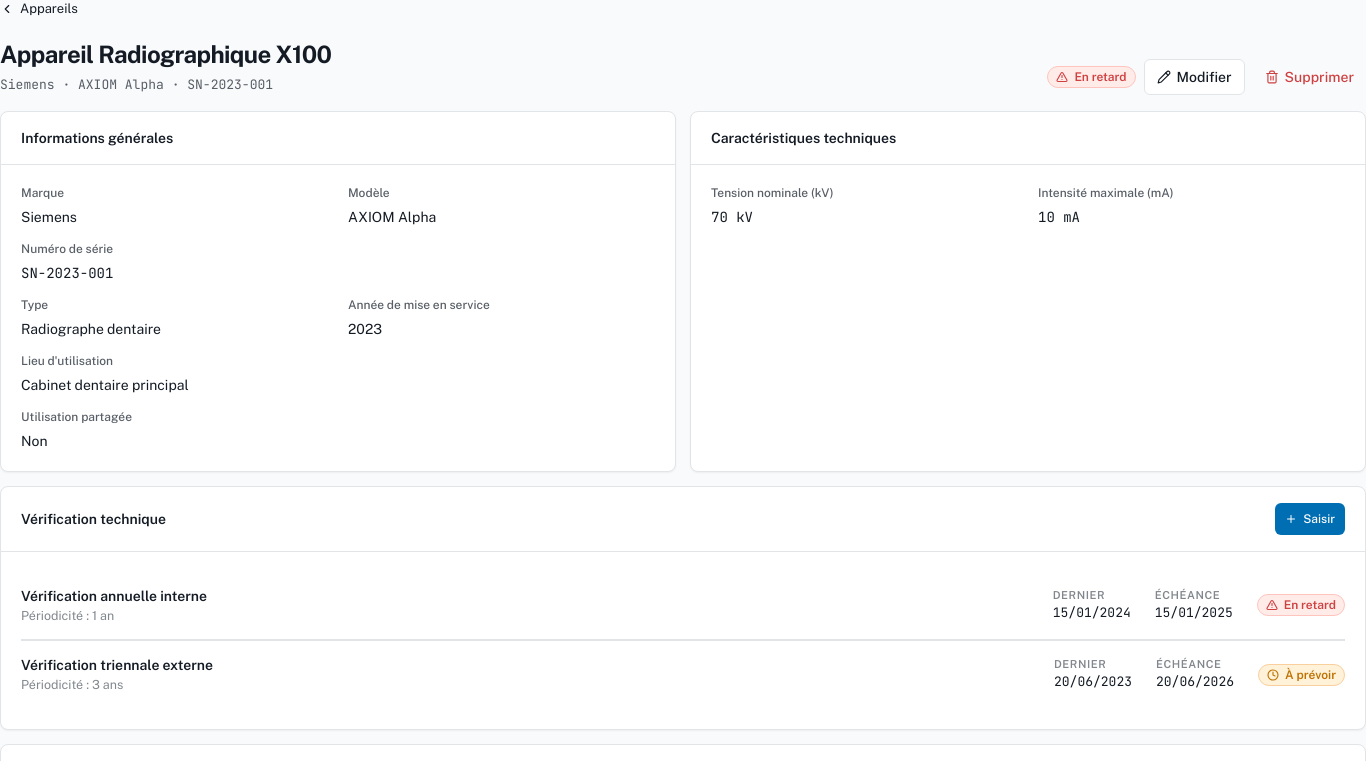
Scenario: AppareilFiche › should allow clicking Saisir button for verification
Click the button "Saisir" at [1310, 519], box [1275,503,1345,535]
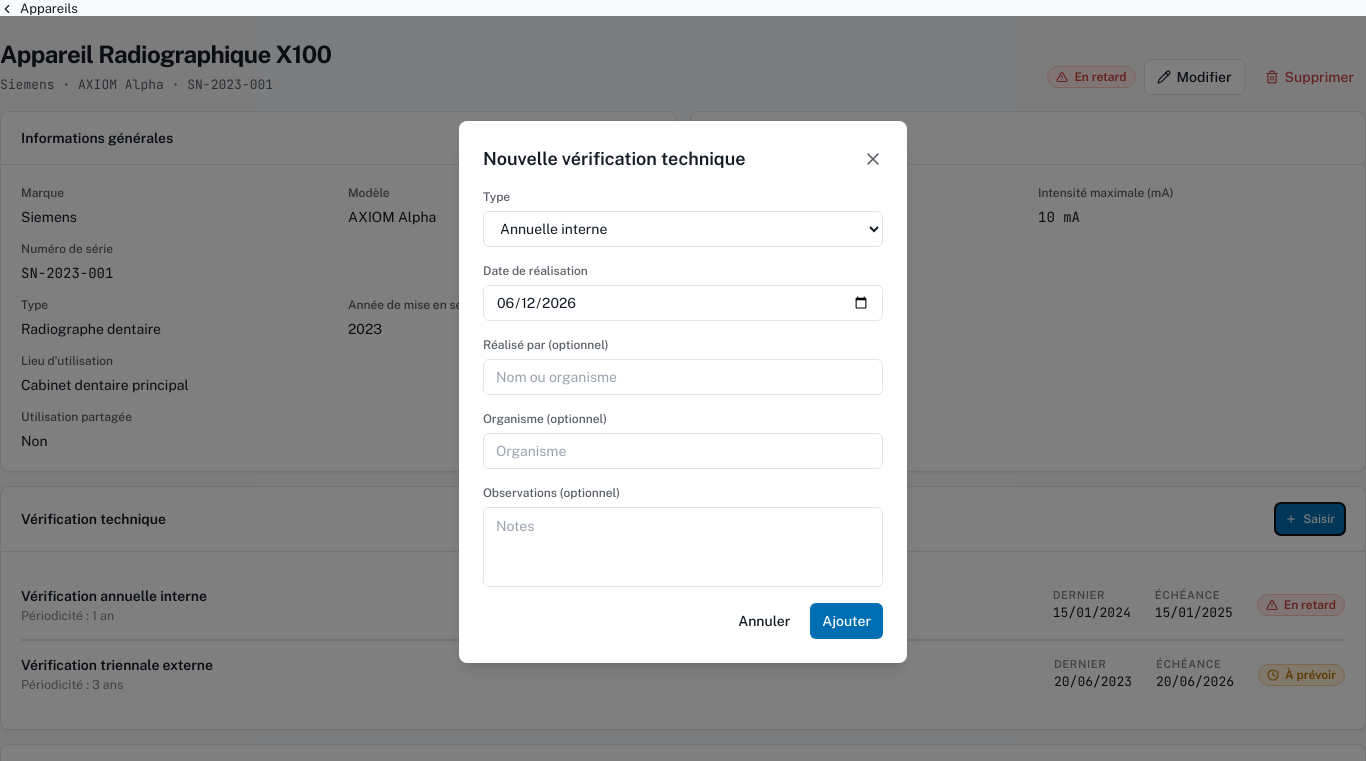
Expected: the heading "Nouvelle vérification technique" is shown, [483,145,746,173]
